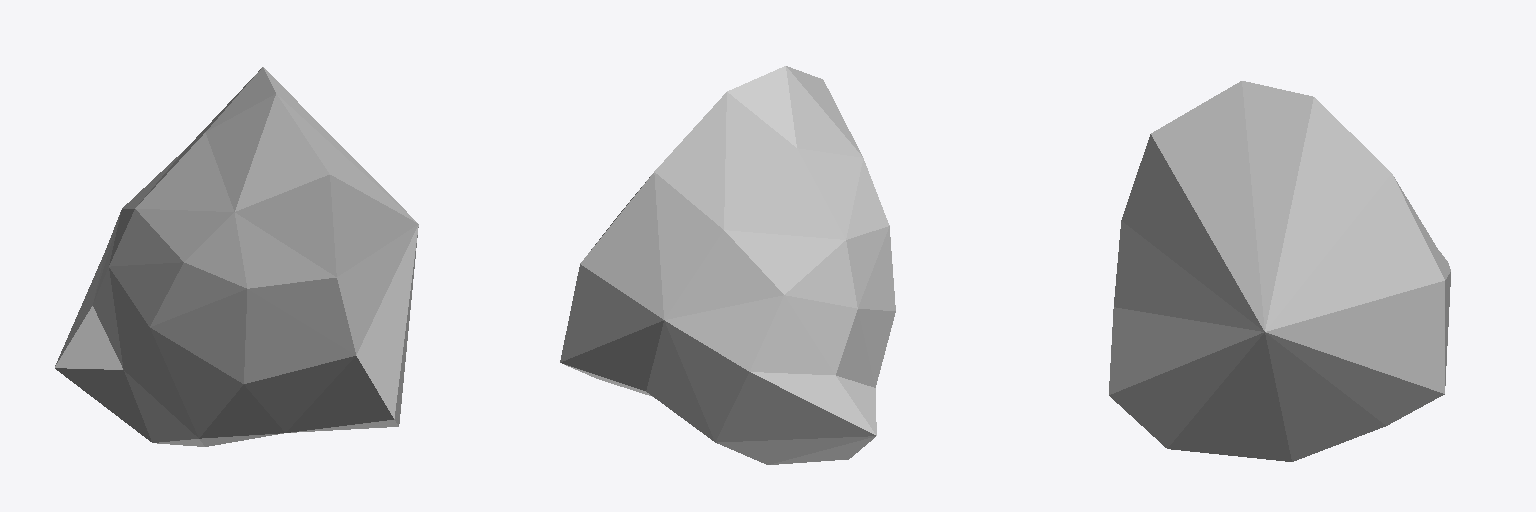
The model's file is bossRLegTop.obj.
3 renders of one model, left to right at view 1: azimuth 30°, elevation 25°; view 2: azimuth 150°, elevation 25°; view 3: azimuth 270°, elevation 25°, orthographic.
Visible parts, largest first — view 1: bossRLegTop; view 2: bossRLegTop; view 3: bossRLegTop.
Part boxes in pixels (bbox=[...]): bossRLegTop: bbox=[55, 67, 418, 446]; bossRLegTop: bbox=[560, 66, 895, 464]; bossRLegTop: bbox=[1109, 81, 1450, 461].
Bounding box in the file's own units: 132 × 143 × 126.